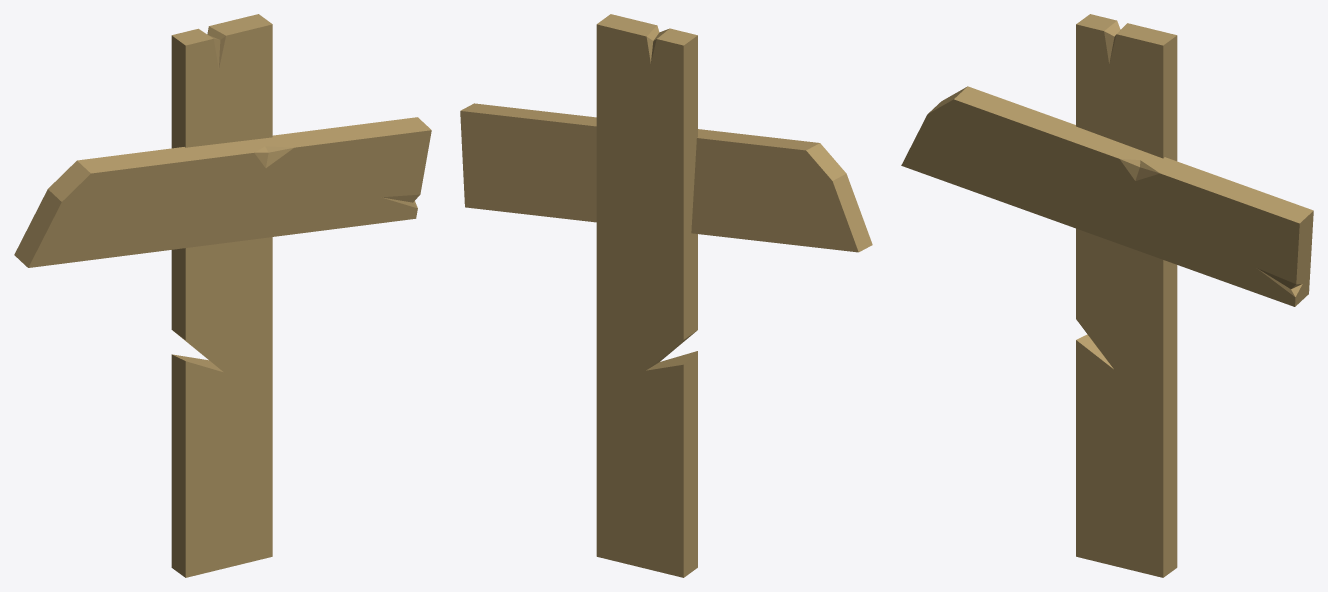
Rendered from tombstone_4.fbx.
3 views of the same model, side by side, from view 1: azimuth 30°, elevation 25°; view 2: azimuth 150°, elevation 25°; view 3: azimuth 330°, elevation 25° (orthographic).
Parts seen in each view (by area): view 1: tombstone3; view 2: tombstone3; view 3: tombstone3.
Boxes of the visible parts, x1,y1,x2,y2 form: tombstone3: [14, 14, 431, 577]; tombstone3: [460, 14, 872, 577]; tombstone3: [901, 14, 1313, 577].
Size of the model in its own units: 0.6466 by 0.8201 by 0.078.
